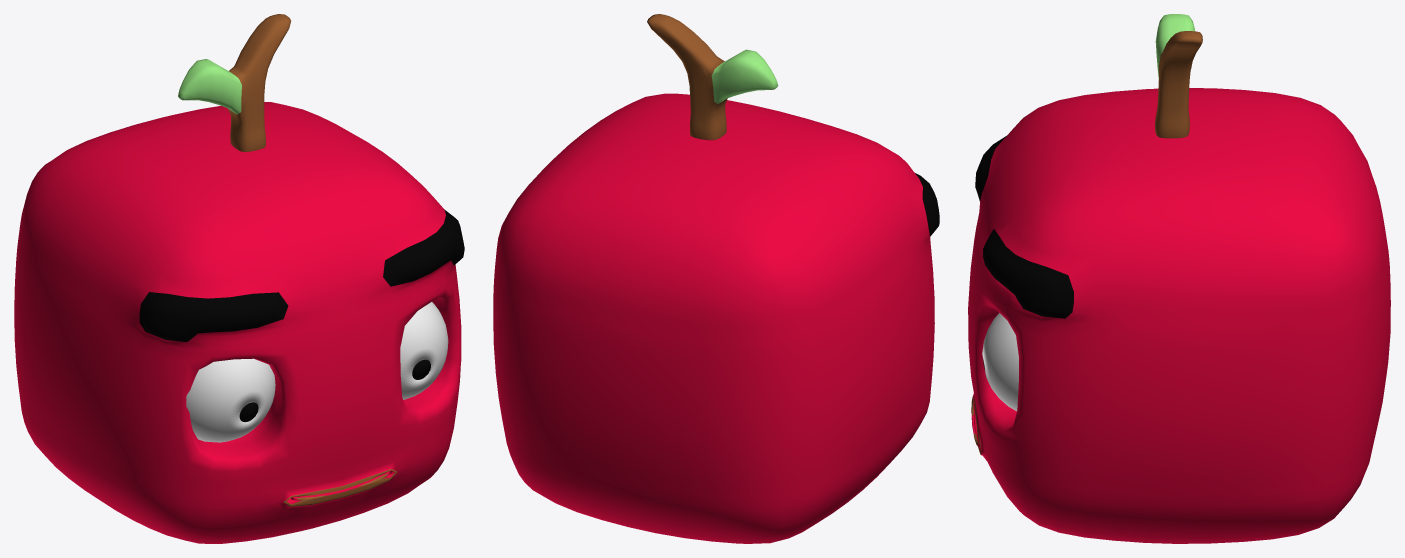
File: apple.fbx
The picture shows the model from 3 angles, left to right: view 1: azimuth 30°, elevation 25°; view 2: azimuth 150°, elevation 25°; view 3: azimuth 270°, elevation 25°; orthographic projection. The views are drawn at different scales.
Parts seen in each view (by area): view 1: Apple, eye.R, eye.L; view 2: Apple; view 3: Apple, eye.L.
Part boxes in pixels (x1,y1,x2,y2): Apple: (14,14,464,543); eye.R: (186,358,275,442); eye.L: (400,302,448,399); Apple: (493,14,939,543); Apple: (968,14,1390,543); eye.L: (982,313,1018,411).
Size of the model in its own units: 199 by 256 by 197.
